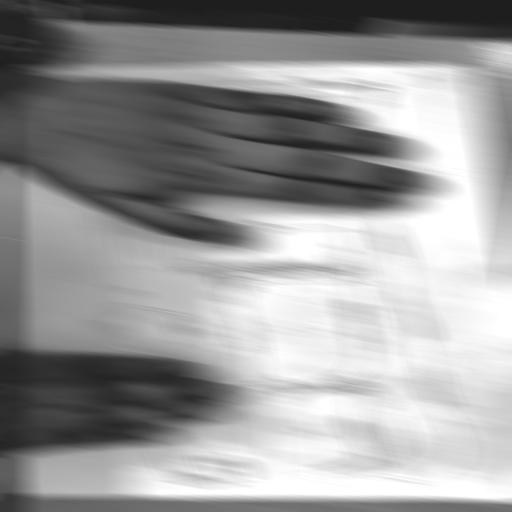bottom_right: (12, 493, 34, 503)
bus: (29, 0, 509, 512)
top_left: (455, 59, 481, 70)
